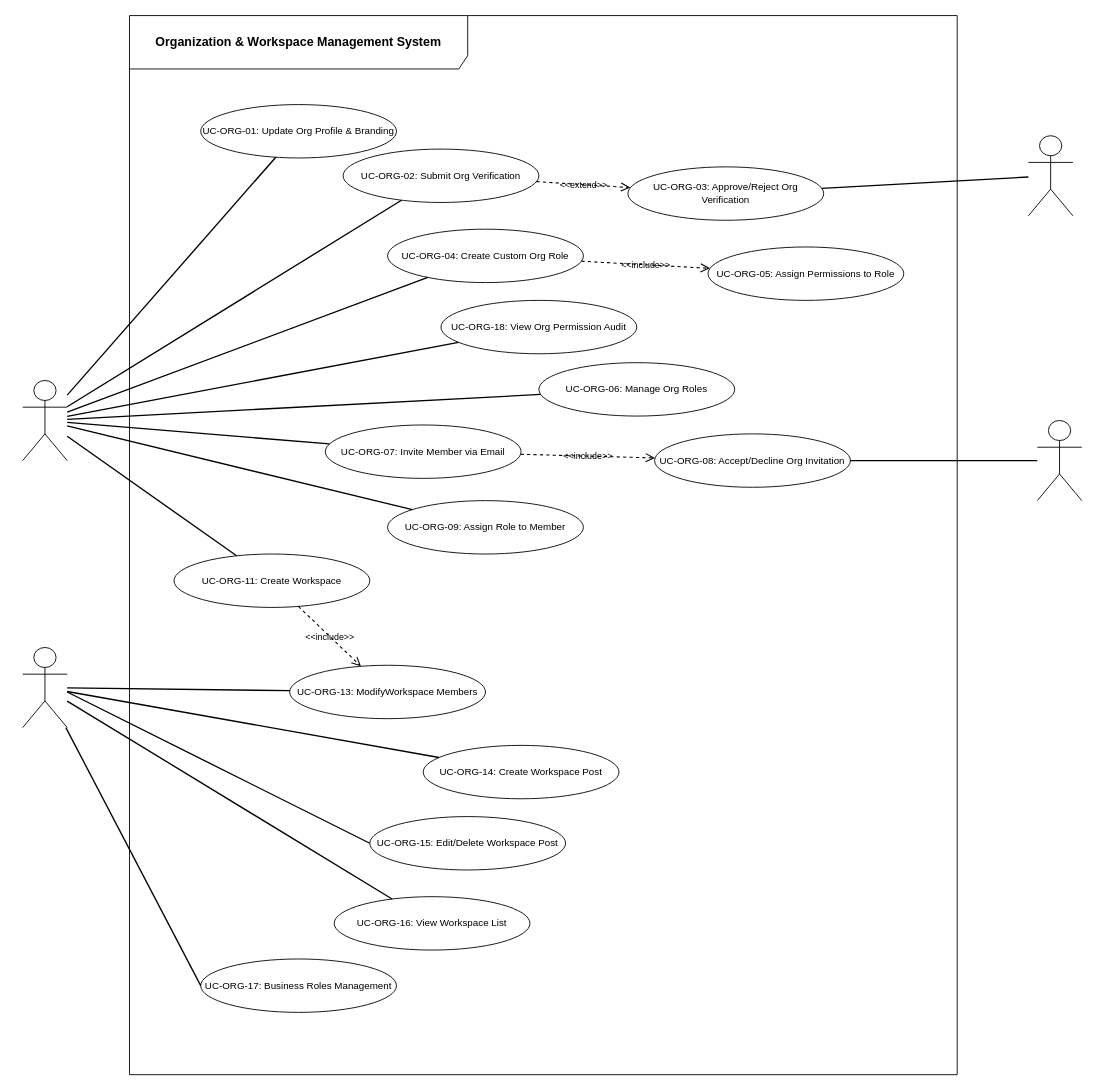
This 1109x1090 diagram has some shape labels left out. Here are the shapes that lost their labels. From the top down, the centre of each, then its label:
At (x=1050, y=175): "Super Admin".
At (x=44, y=420): "Org Admin".
At (x=1059, y=460): "Guest / Invitee".
At (x=44, y=687): "Org Member".
